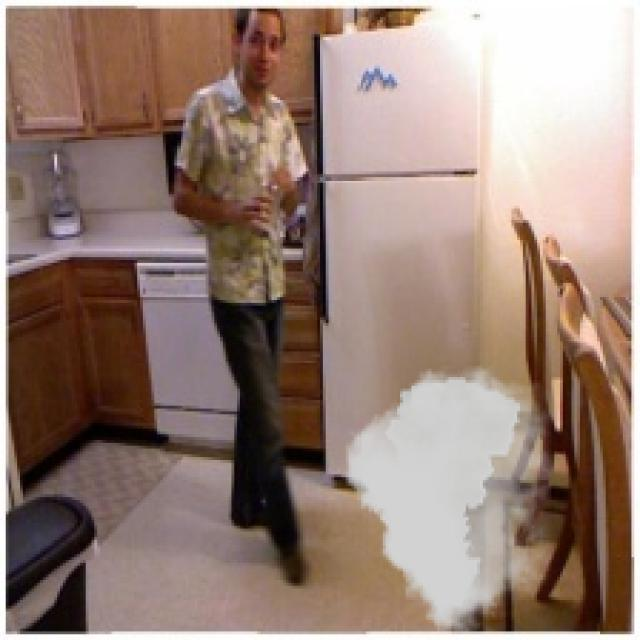Smoke: (346, 366, 552, 632)
